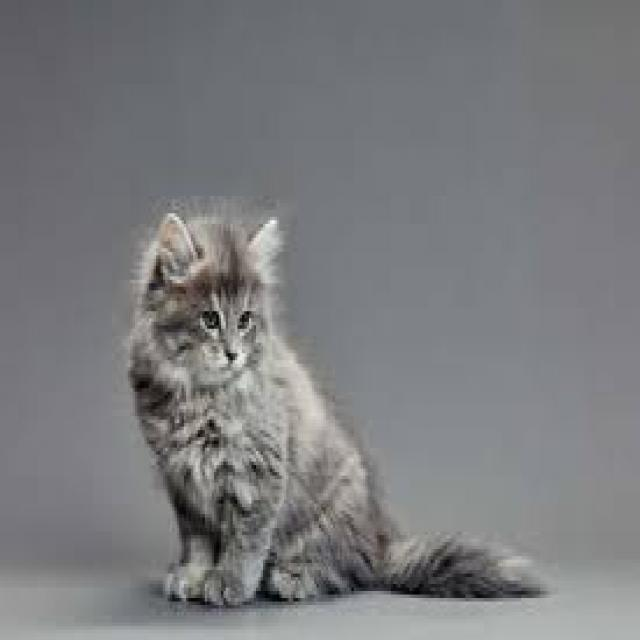Cat: (116, 190, 557, 617)
